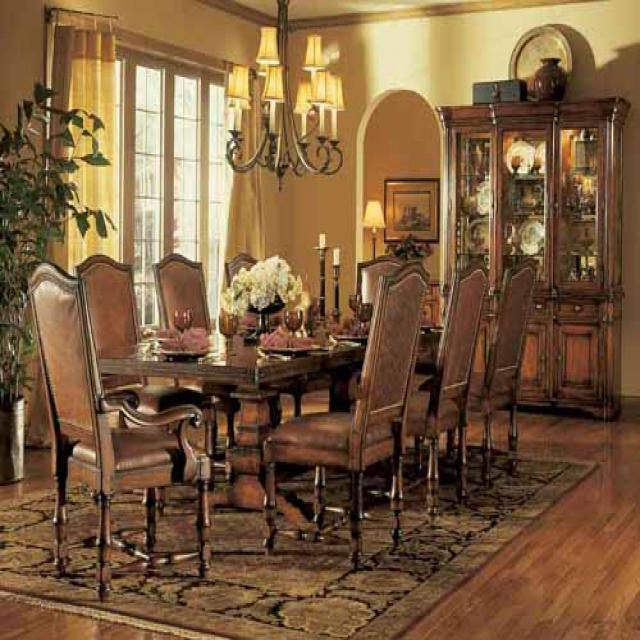Lamp: (215, 0, 351, 180)
archway: (353, 90, 443, 391)
baseboard: (622, 395, 637, 417)
candle holder: (332, 245, 339, 263), (317, 231, 325, 244)
carpet- rug: (1, 412, 596, 638)
chair -occluded-: (24, 257, 212, 600), (265, 260, 430, 561)
charger: (509, 22, 570, 101)
curtain crop: (29, 5, 118, 444)
dining table: (96, 313, 456, 525)
floor -X: (1, 359, 636, 637)
french window: (36, 14, 259, 449)
houseplant: (1, 79, 114, 483)
lamp crop: (360, 196, 384, 263)
picture crop: (381, 175, 439, 242)
sideboard: (433, 96, 631, 417)
vase -X: (531, 56, 567, 103)
